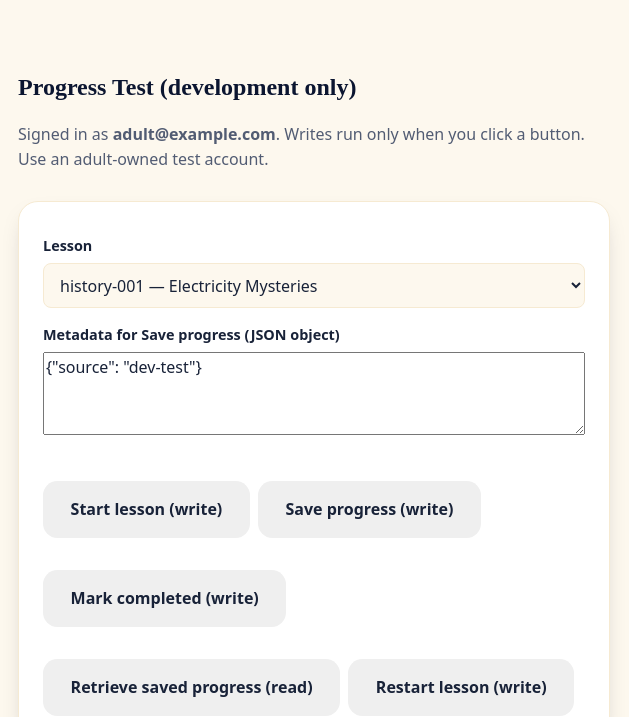
Test: ProgressTestPage › reports when no row exists for the lesson
Click the button "Retrieve saved progress (read)" at (192, 687), box [43,659,340,716]
(page scrolled)
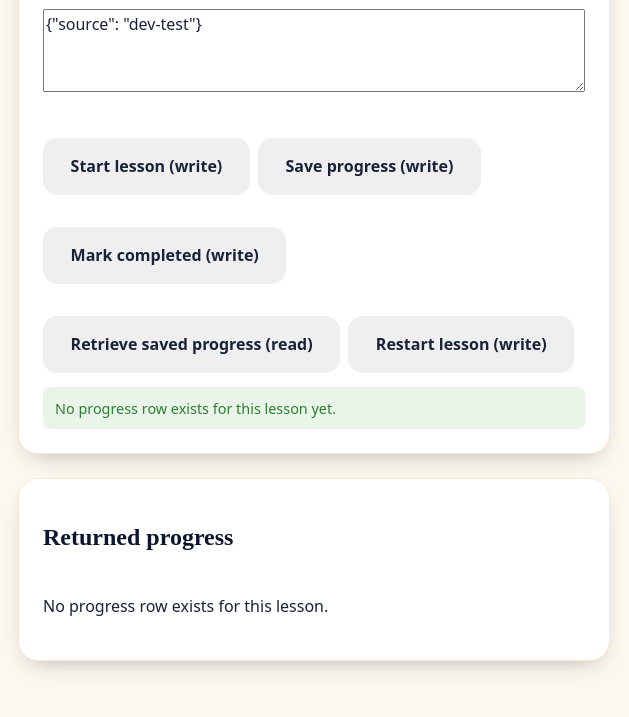
Expected: the message shows "No progress row exists", [55,399,336,418]
